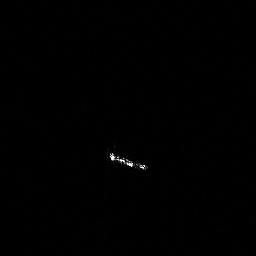ship: (106, 151, 148, 172)
